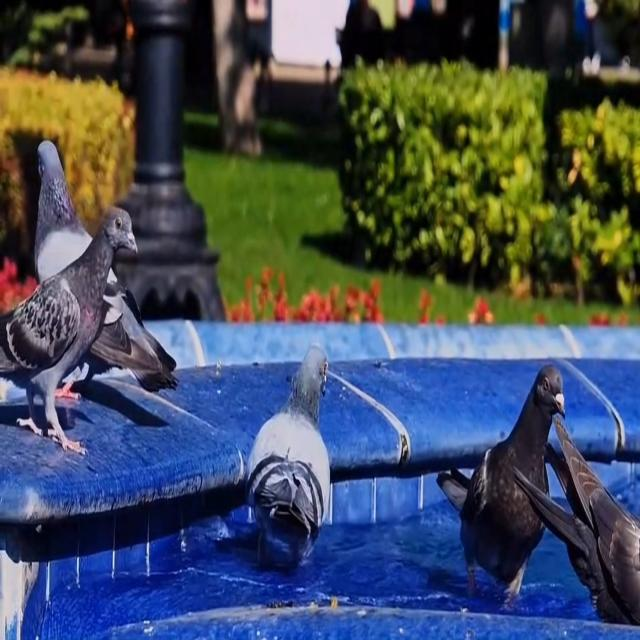bird: (27, 123, 188, 430), (2, 196, 164, 459), (432, 322, 566, 618), (247, 322, 349, 595), (511, 434, 640, 632)
